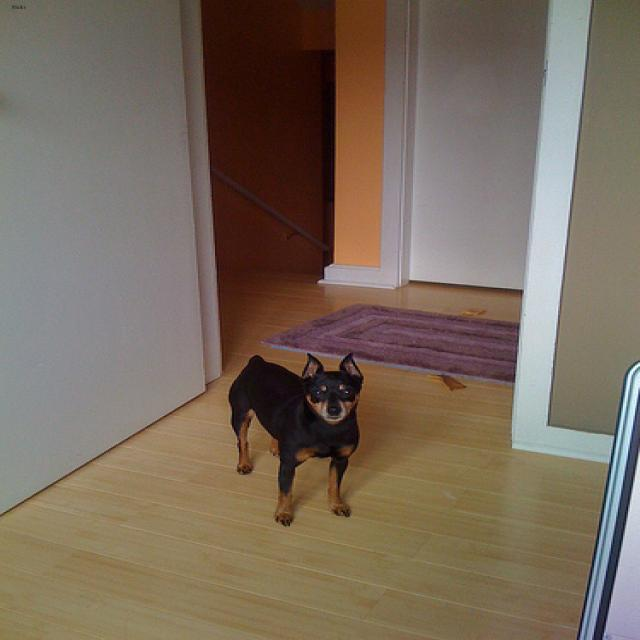dog-miniature_pinscher: (220, 346, 367, 532)
